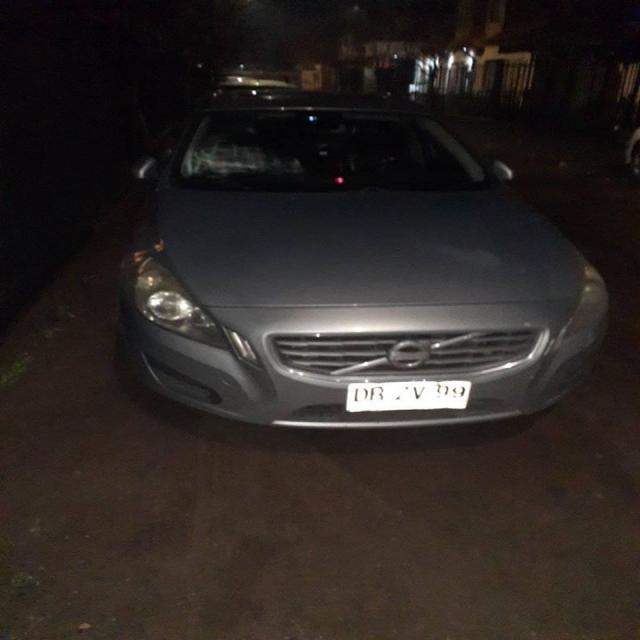patente: (344, 378, 472, 412)
